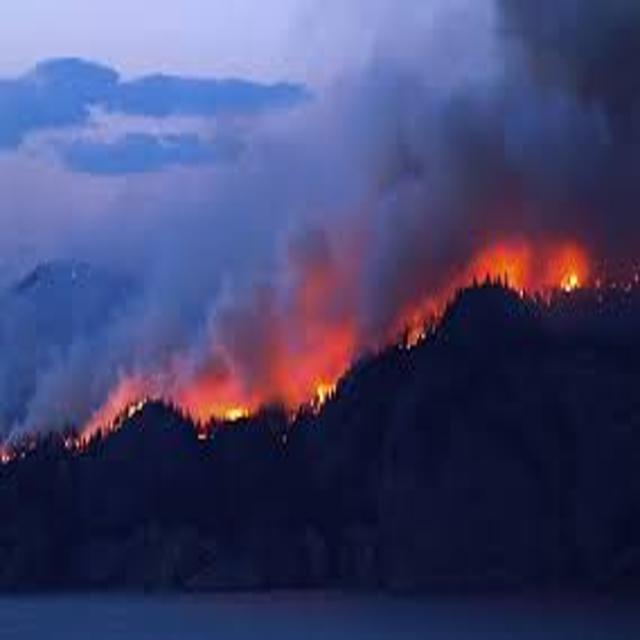Fire: (62, 368, 254, 472), (458, 232, 600, 316), (297, 365, 363, 438), (384, 305, 450, 378), (0, 424, 38, 494)
Smoke: (347, 0, 640, 237), (195, 99, 345, 228), (264, 228, 456, 306), (192, 297, 382, 363), (190, 230, 255, 298)
